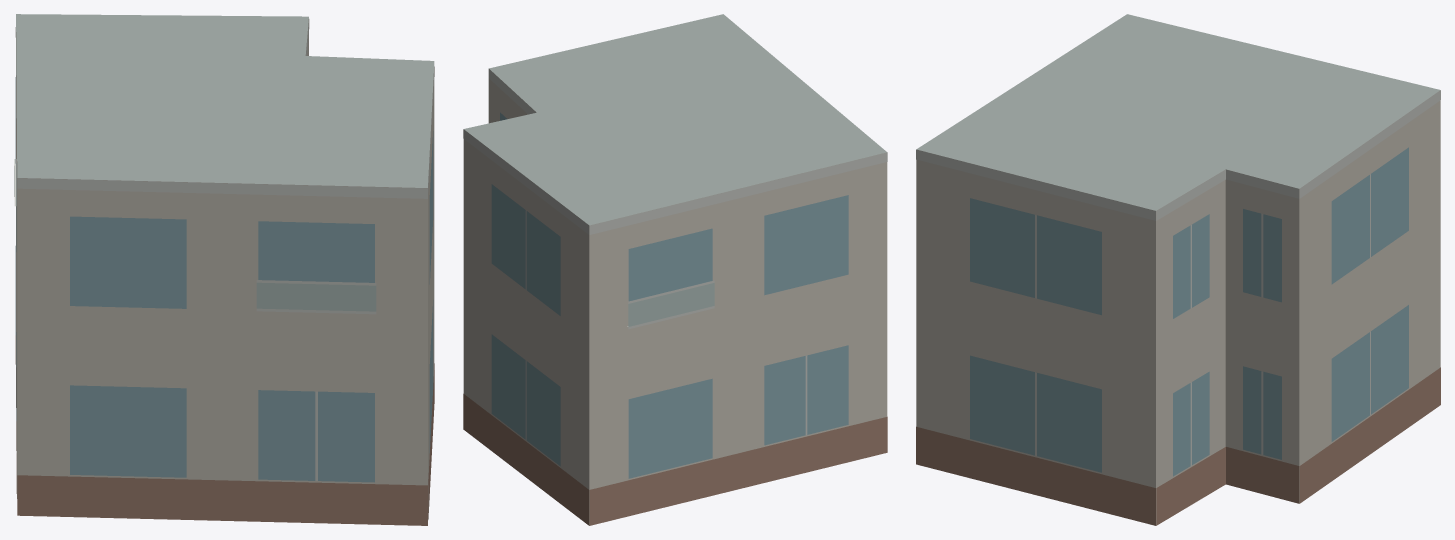
File: survey-upis-32544587.glb
3 views of the same model, side by side, from view 1: azimuth 30°, elevation 25°; view 2: azimuth 150°, elevation 25°; view 3: azimuth 270°, elevation 25° (orthographic). The views are drawn at different scales.
Parts seen in each view (by area): view 1: survey-upis-32544587.tmp; view 2: survey-upis-32544587.tmp; view 3: survey-upis-32544587.tmp.
Part boxes in pixels (bbox=[...]): survey-upis-32544587.tmp: bbox=[14, 14, 434, 525]; survey-upis-32544587.tmp: bbox=[463, 14, 887, 525]; survey-upis-32544587.tmp: bbox=[916, 14, 1440, 525].
Size of the model in its own units: 10.2 by 7.6 by 11.48.
